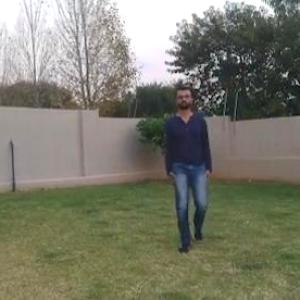follow: (170, 89, 209, 239)
